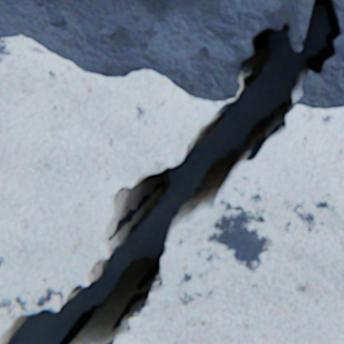broken_brick: (0, 35, 228, 343), (114, 104, 343, 343)
crack: (1, 0, 342, 343)
